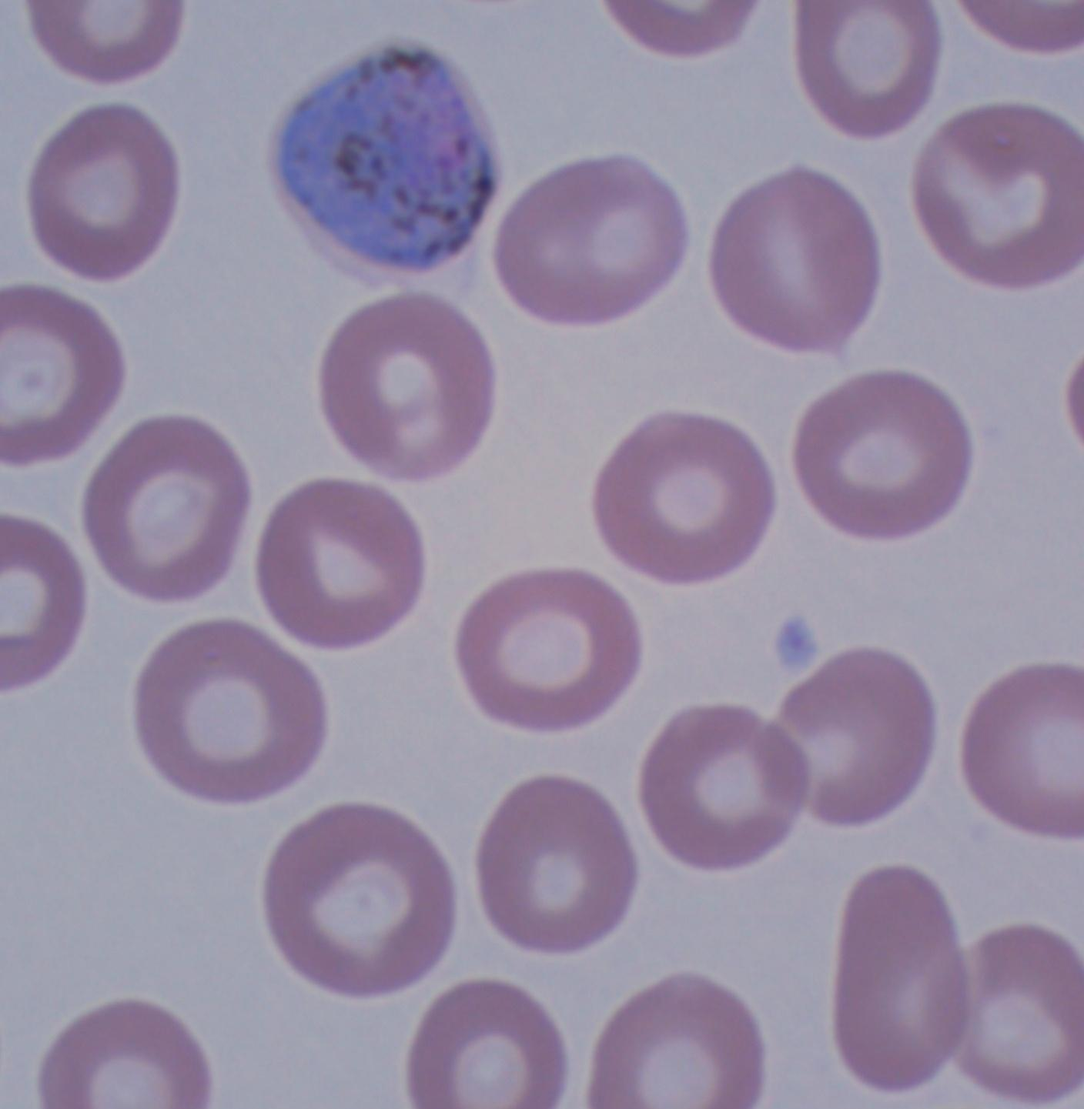Infected: (269, 34, 506, 293)
Uninfected: (263, 800, 455, 995), (136, 619, 322, 803), (590, 409, 774, 589), (493, 155, 686, 325), (320, 296, 493, 479), (709, 168, 878, 351), (85, 416, 252, 599), (833, 865, 966, 1089), (456, 568, 637, 732), (793, 369, 968, 538), (915, 101, 1077, 283), (644, 701, 812, 875), (259, 479, 426, 646), (777, 650, 935, 826), (476, 776, 634, 950), (32, 102, 180, 279), (590, 977, 761, 1108), (955, 921, 1076, 1097), (406, 982, 563, 1109), (798, 0, 938, 135)
